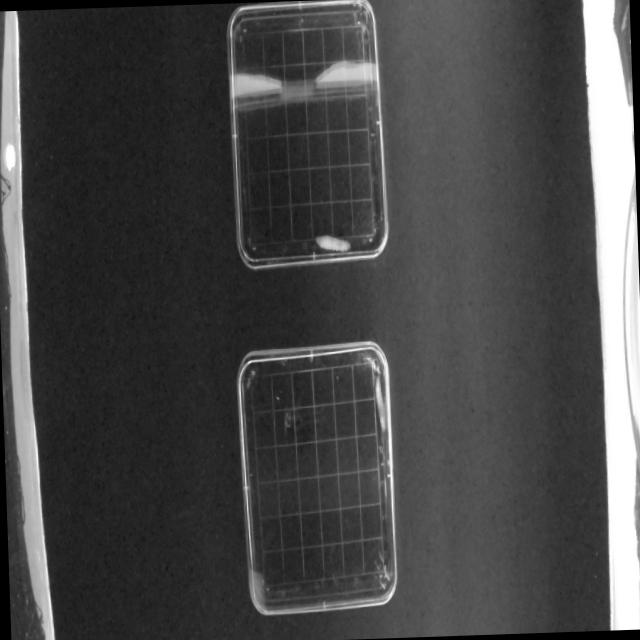larva: (373, 376, 387, 436), (314, 232, 352, 252)
